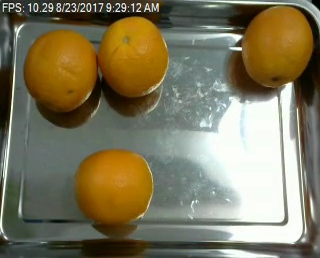Orange: (242, 5, 315, 88), (23, 29, 97, 110), (74, 148, 153, 223), (97, 16, 168, 97)
